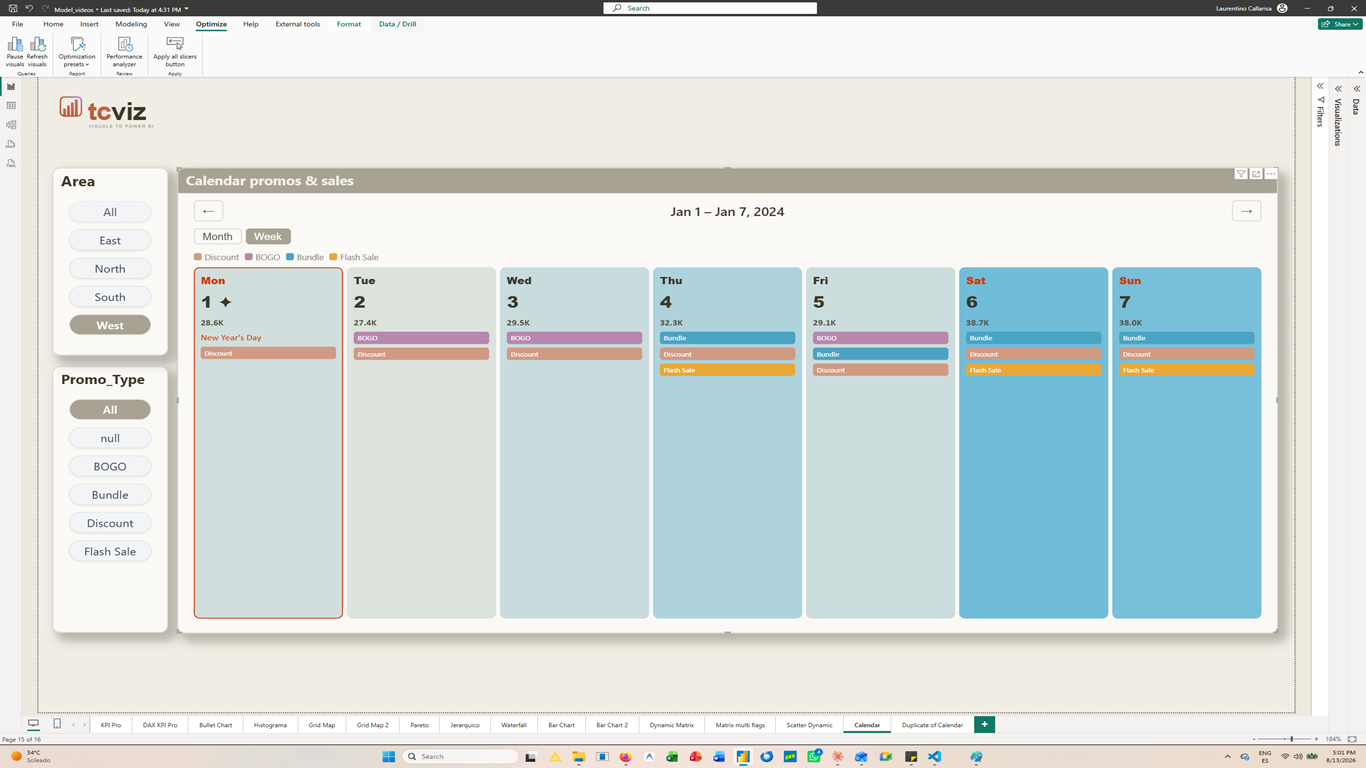

The page's visual inventory and layout, read from the dashboard file:
{"tool":"powerbi","page":{"name":"Duplicate of Calendar","canvas":[1280,720],"ordinal":0},"visuals":[{"type":"image","box":[13.9,5.4,118.4,67.7],"z":0},{"type":"chipSlicerFree","fields":{"category":["sample_sales.Promo_Type"]},"box":[13.9,328.4,118.7,377.9],"z":1000},{"type":"chipSlicerFree","fields":{"category":["sample_sales.Area"]},"box":[14.1,102.6,118.4,212.6],"z":2000},{"type":"calendarTCViz022303184F264C8B9ACE6A13E838FFEB_test","title":"Calendar promos & sales","fields":{"date":["sample_sales.Date"],"holidayName":["sample_sales.Holiday_Name"],"eventName":["sample_sales.Promo_Type"],"eventCategory":["sample_sales.Promo_Type"],"mainMeasure":["Sum(sample_sales.Sales_Value)"],"secondaryMeasures":["Sum(sample_sales.Units)","Avg(sample_sales.Units)"]},"box":[148.2,102.4,1116.1,603.8],"z":3000}]}

Visuals, with their boxes on the page's 1280x720 design canvas (x1, y1, x2, y2). These are canvas units, not pixel positions in the 1366x768 screenshot, which may show the page scaled, cropped or inside an application window:
image: (14,5,132,73)
chipSlicerFree - sample_sales.Promo_Type: (14,328,133,706)
chipSlicerFree - sample_sales.Area: (14,103,132,315)
"Calendar promos & sales" calendarTCViz022303184F264C8B9ACE6A13E838FFEB_test: (148,102,1264,706)
